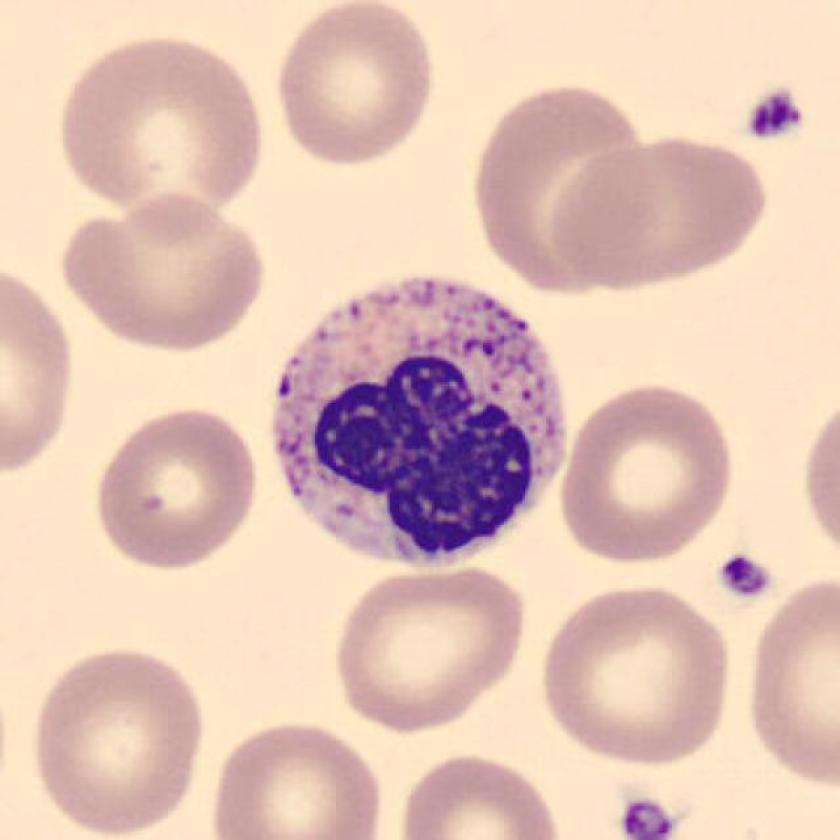neutrophil: (276, 281, 566, 567)
